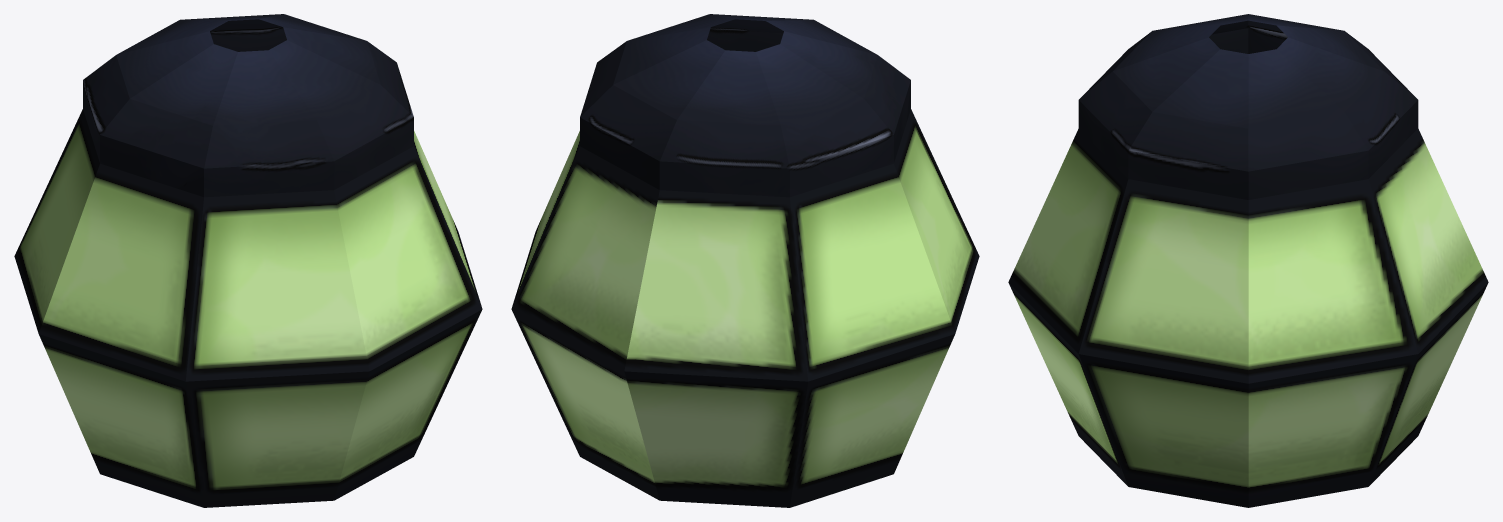
The model's file is lampionkanan.obj.
The picture shows the model from 3 angles, left to right: view 1: azimuth 30°, elevation 25°; view 2: azimuth 150°, elevation 25°; view 3: azimuth 270°, elevation 25°; orthographic projection.
Visible parts, largest first — view 1: StallMesh; view 2: StallMesh; view 3: StallMesh.
Boxes of the visible parts, x1=… form: StallMesh: x1=14, y1=14, x2=482, y2=507; StallMesh: x1=511, y1=14, x2=979, y2=507; StallMesh: x1=1008, y1=14, x2=1488, y2=507.
Size of the model in its own units: 0.02 by 0.0213 by 0.02.
